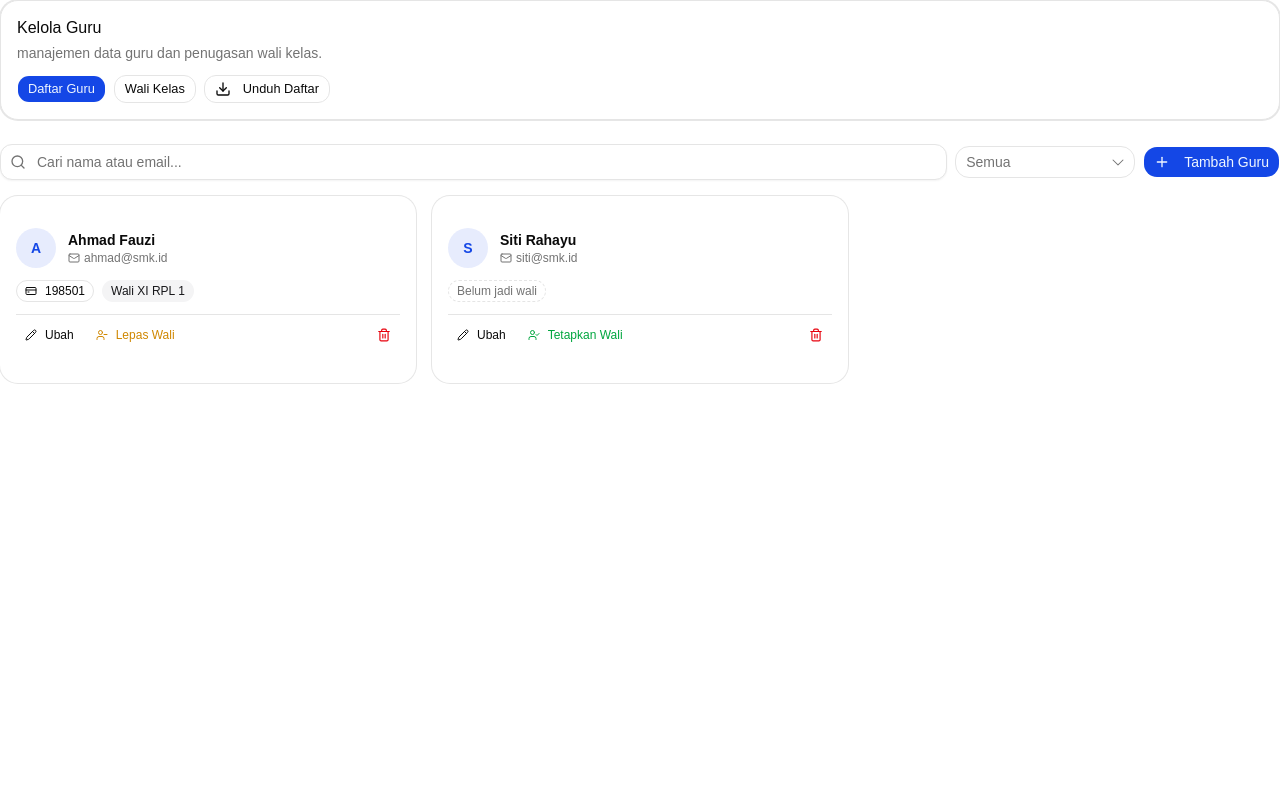
Test: KelolaGuruSection › 'Tambah Guru' opens create dialog with Nama/Email/Password/NIP/Jenis Kelamin fields
This screenshot has width=1280, height=800.
Click the button "Tambah Guru". click: point(1212, 162)
box: [1143,146,1279,178]
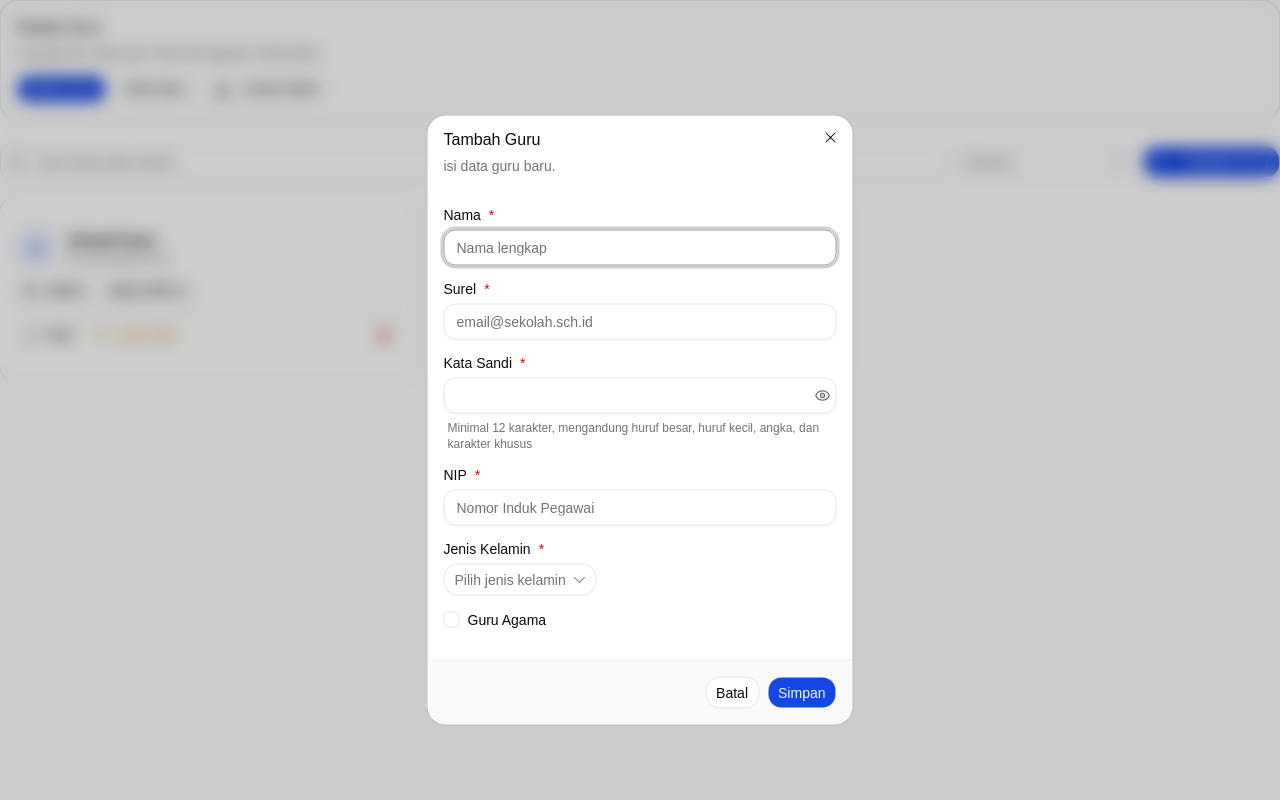
expect the text "isi data guru baru." is shown: met, box [444,158,556,174]
expect the field with placeholder "Nama lengkap" is shown: met, box [444,230,836,266]
expect the field with placeholder "email@sekolah.sch.id" is shown: met, box [444,304,836,340]
